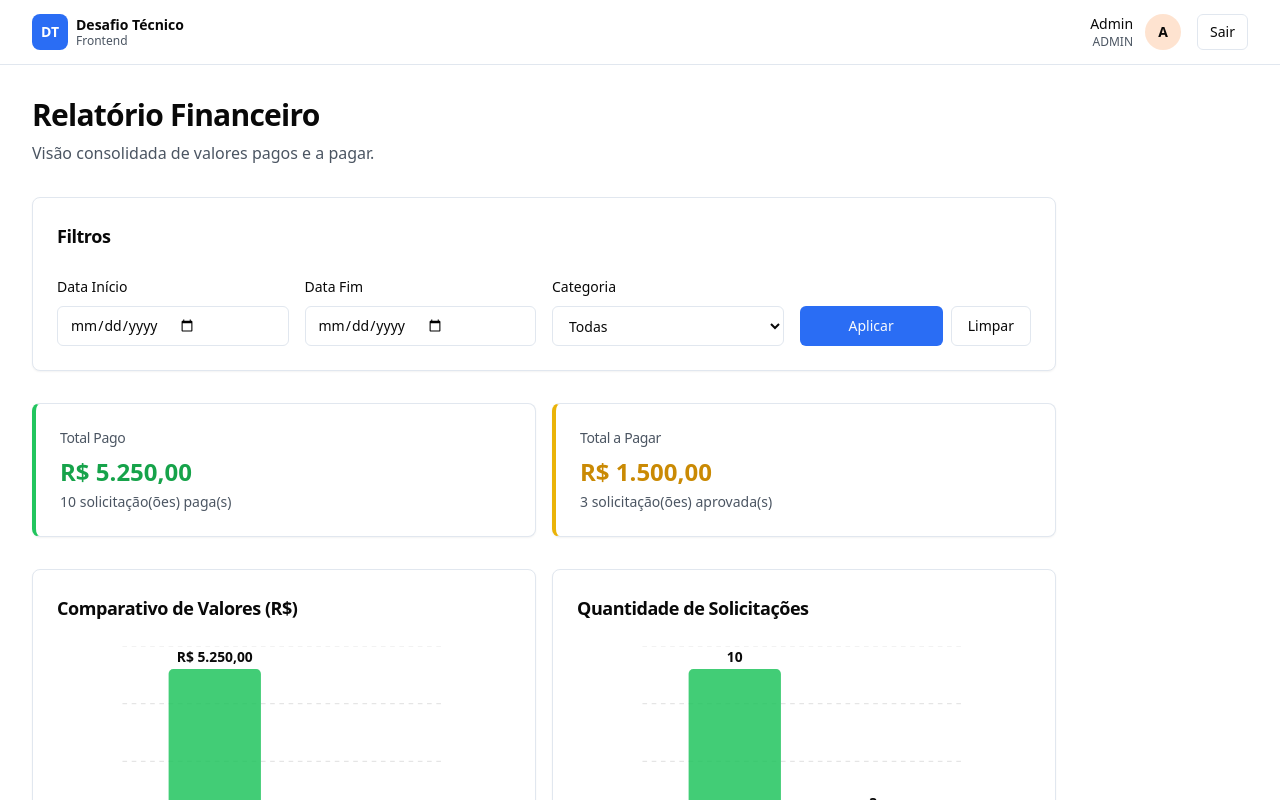
Test: ReportsPage › ADMIN: exibe erro de validação quando data início > data fim
This screenshot has width=1280, height=800.
Type "2025-12-31" into the date field labelled "Data Início" at [173, 326], box [57,306,288,346]
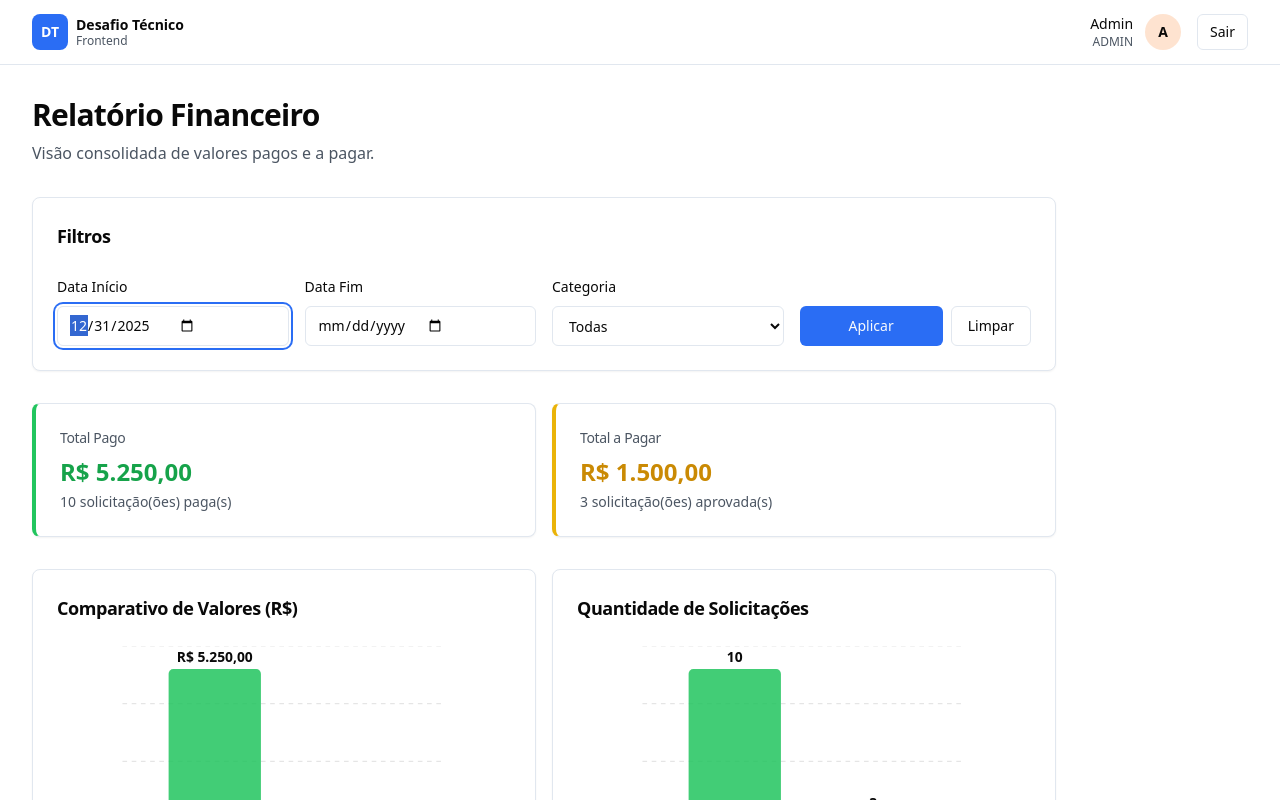
Type "2025-01-01" into the date field labelled "Data Fim" at [420, 326], box [304,306,536,346]
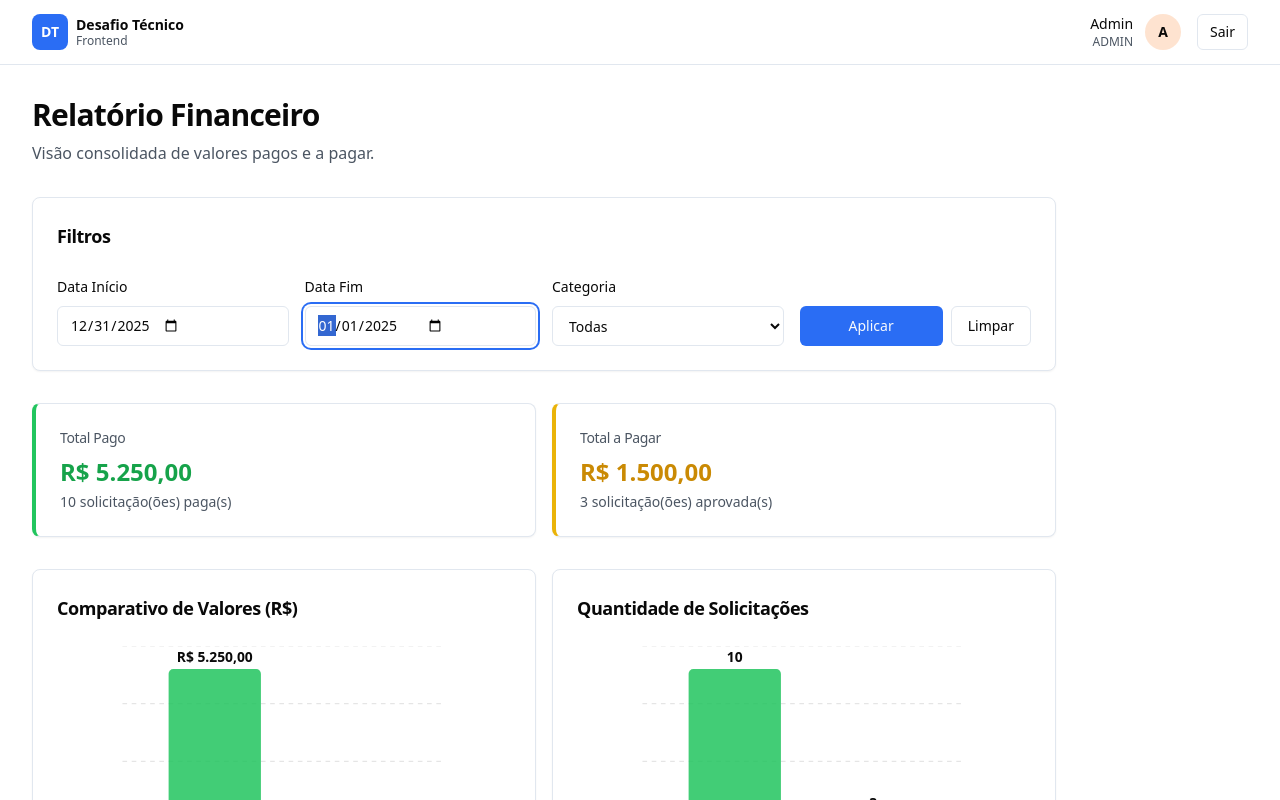
Click the button "Aplicar" at [871, 326], box [800,306,943,346]
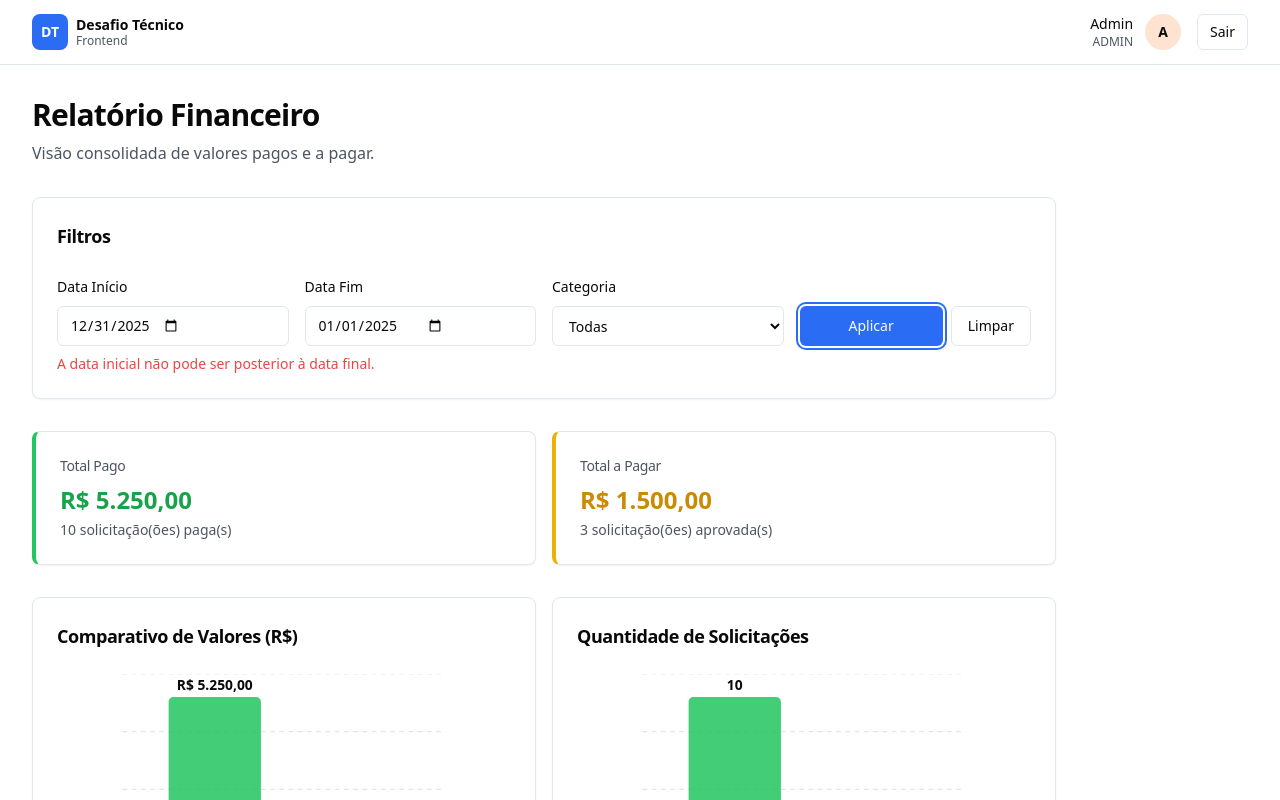
expect the text "A data inicial não pode ser posterior à data final." is shown: met, box [57,354,375,373]
